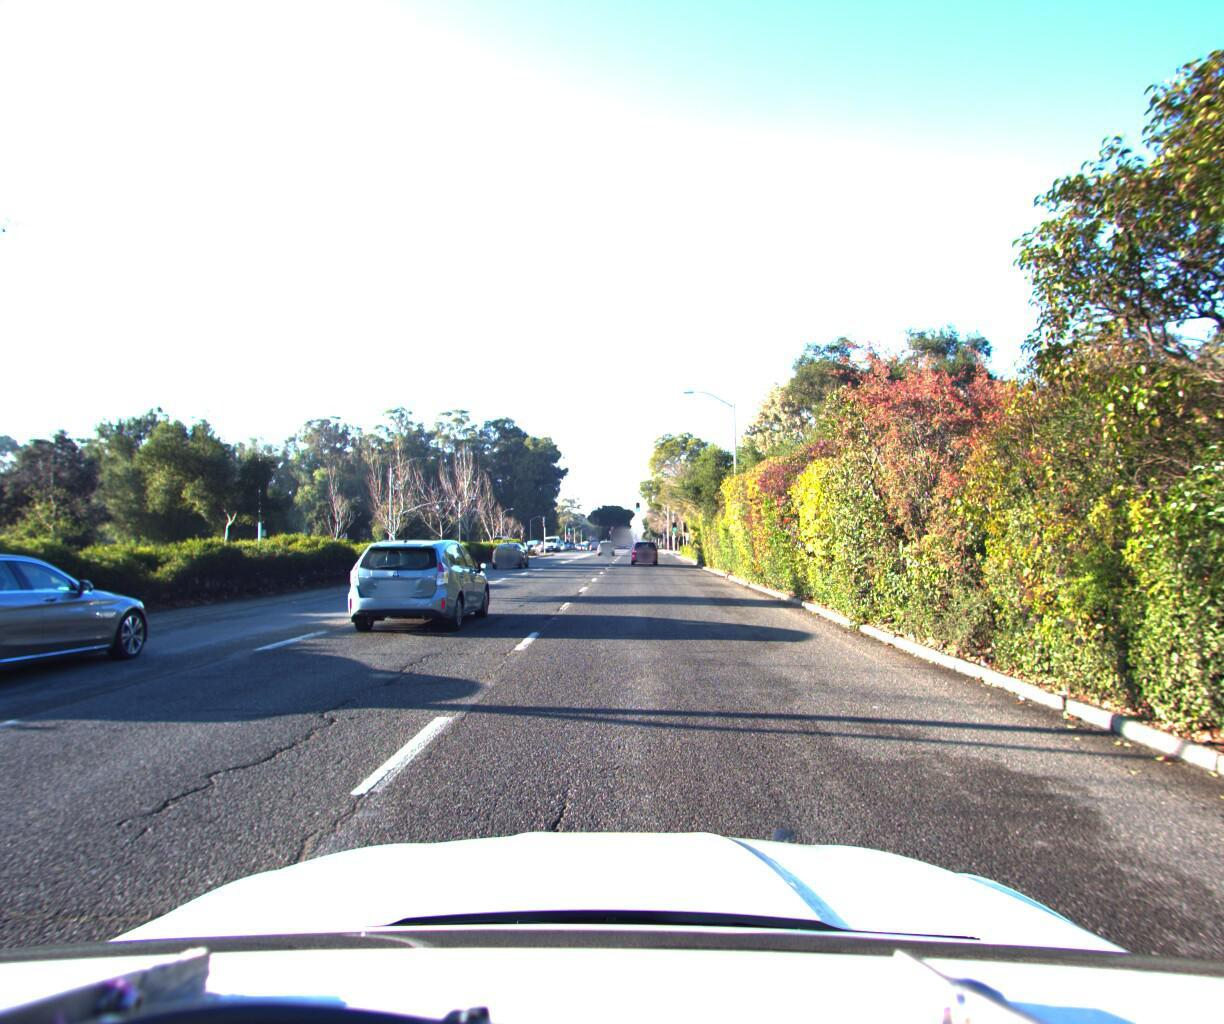car: (346, 529, 497, 633), (488, 537, 529, 564), (628, 536, 656, 560), (599, 534, 617, 551)
